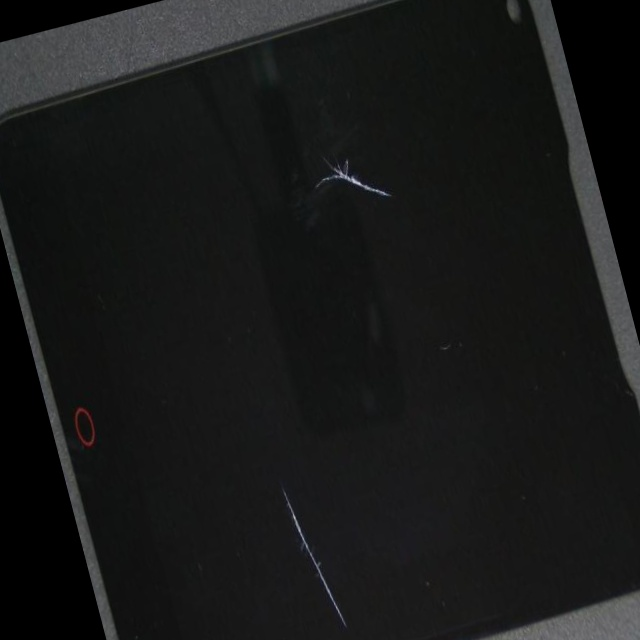scratch: (163, 0, 517, 271), (184, 335, 480, 640)
